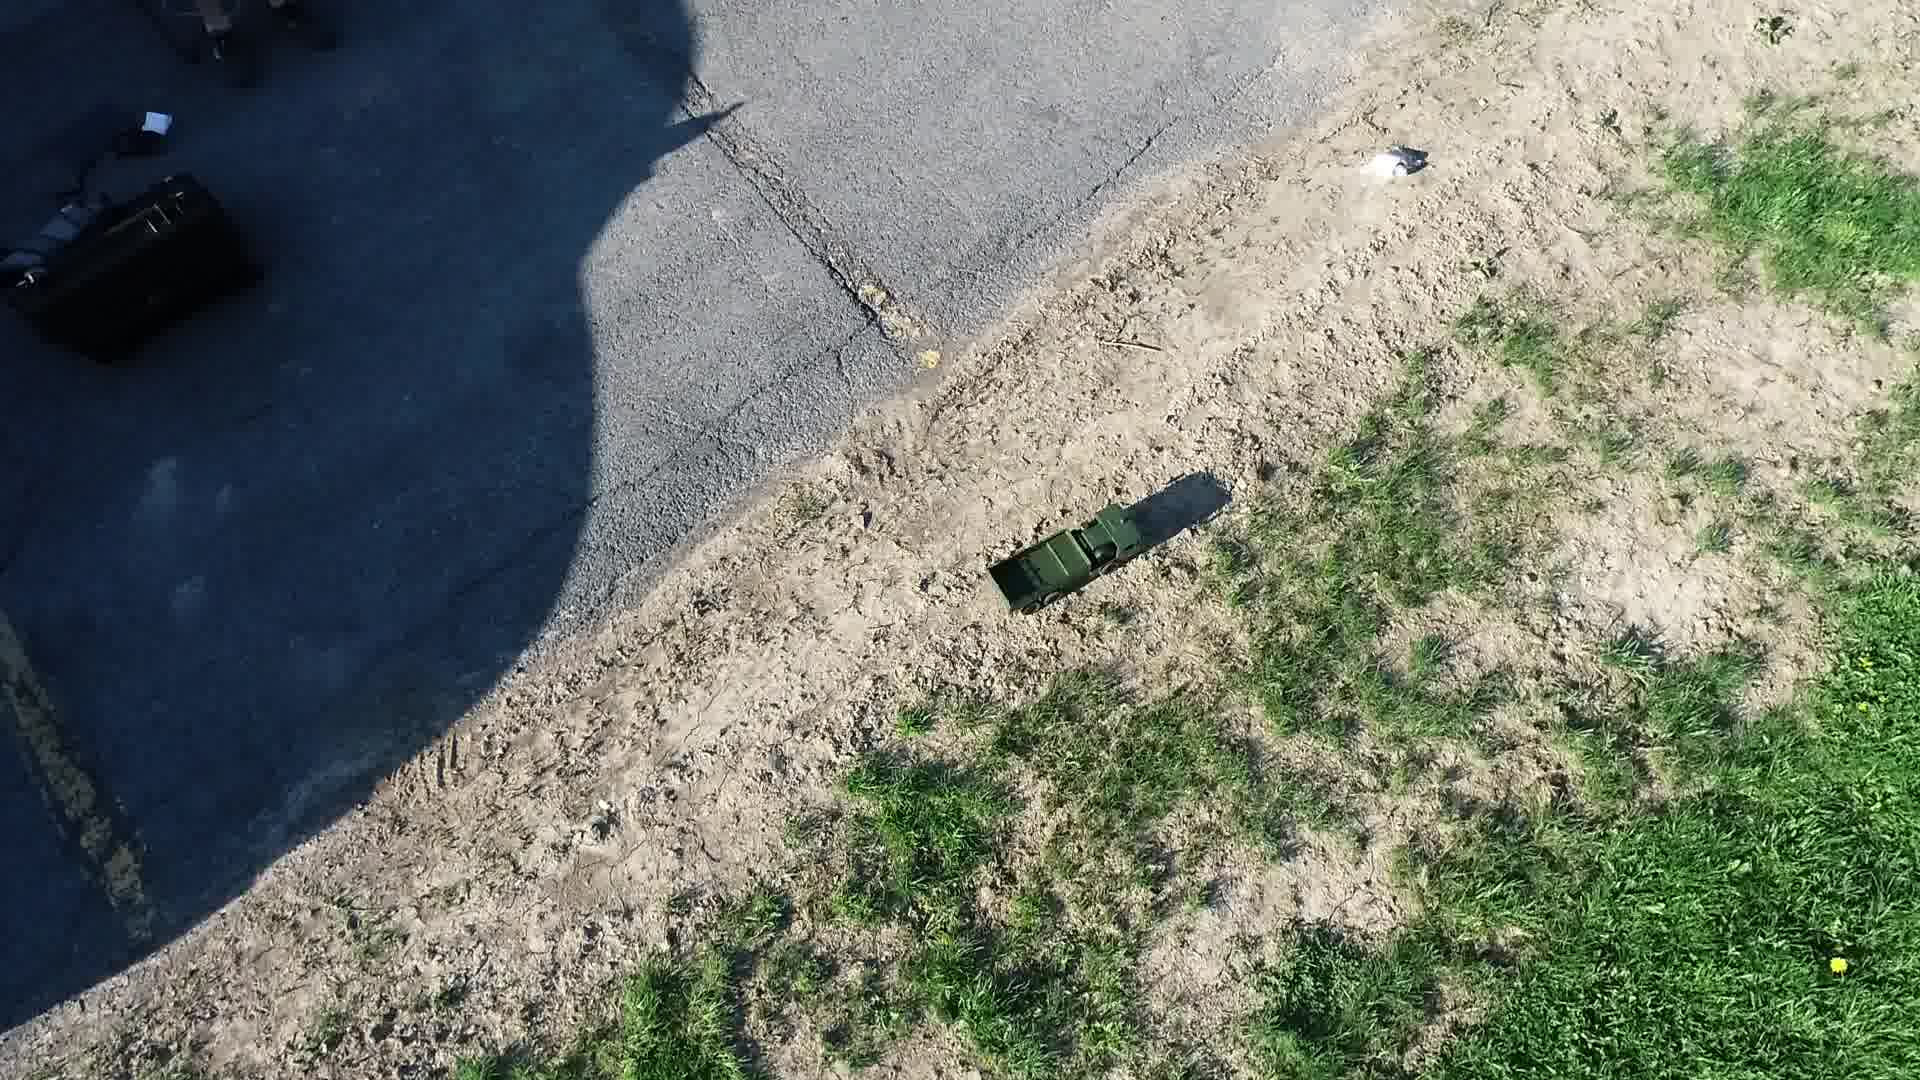transporter9: (977, 495, 1153, 618)
